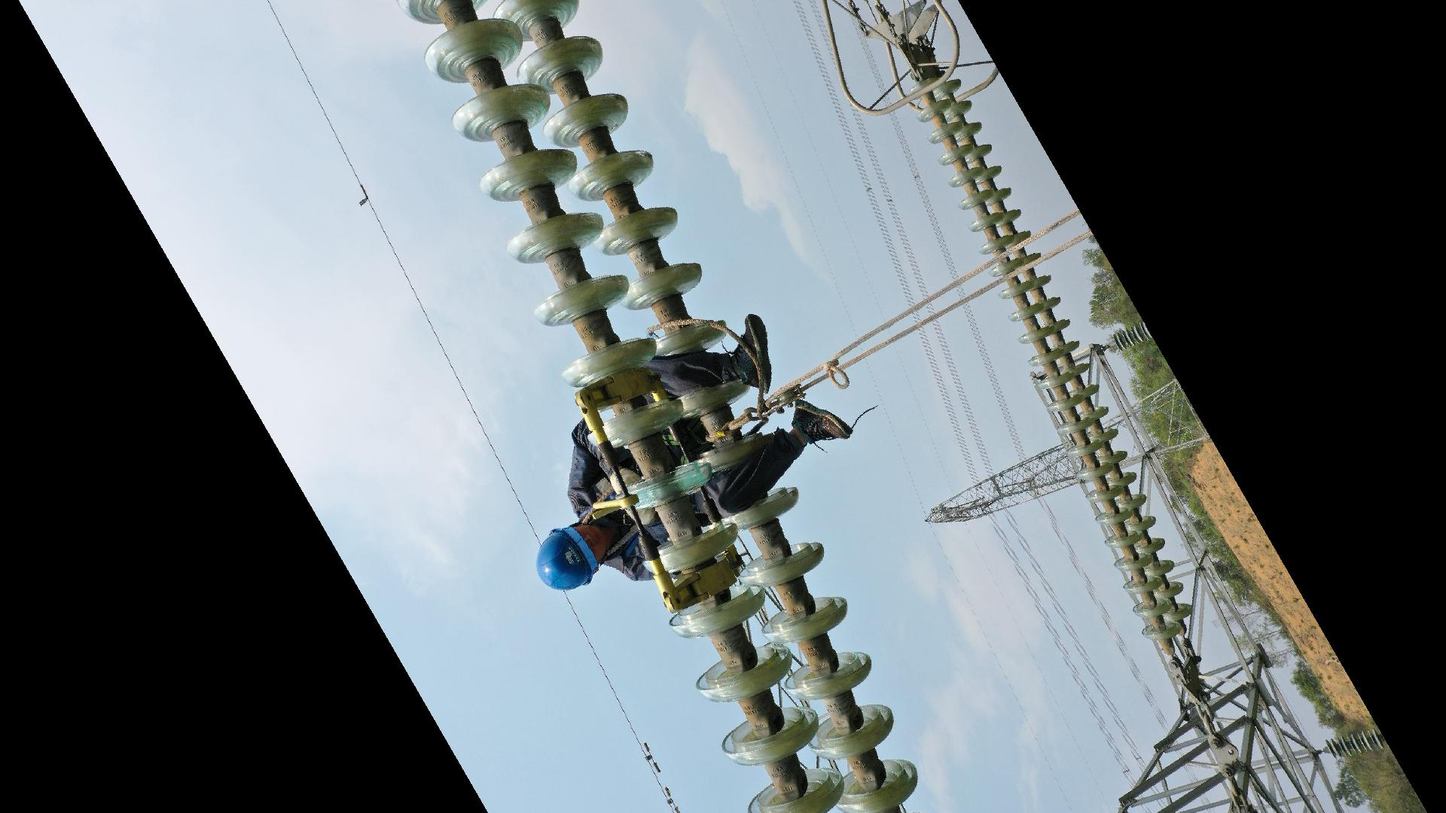insulator: (397, 1, 927, 813), (900, 63, 1199, 650)
